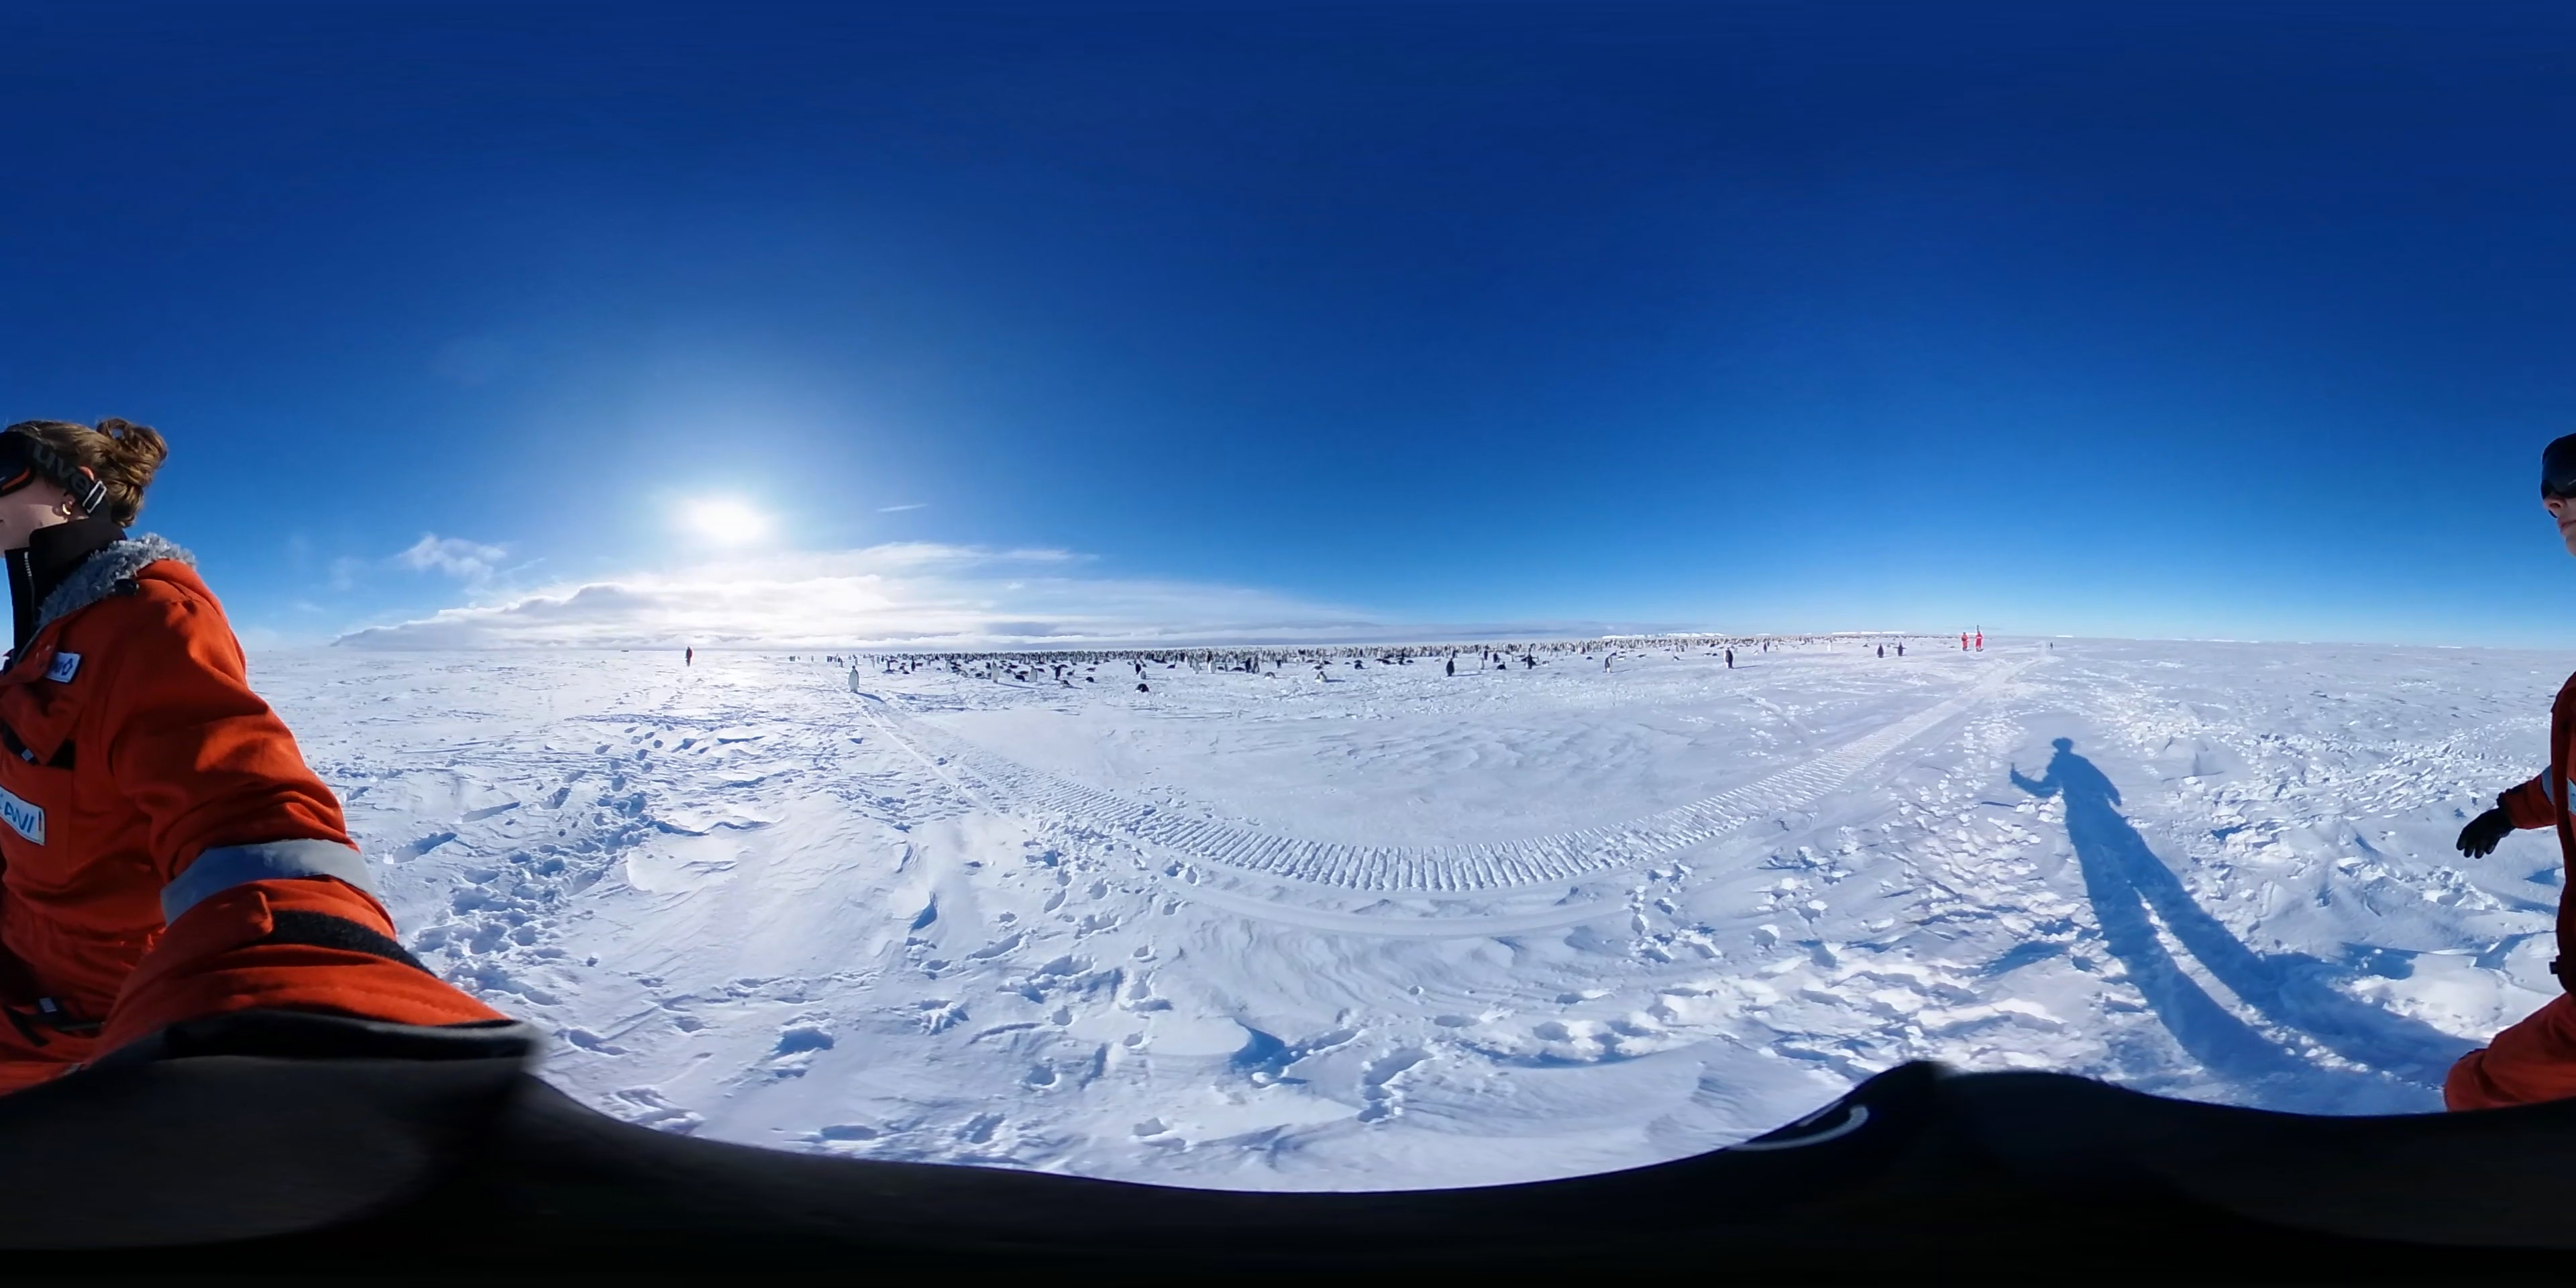adult_standing_penguin: (844, 665, 862, 693), (1442, 654, 1459, 677), (989, 659, 1000, 688), (1050, 662, 1065, 683), (1027, 660, 1040, 683), (1722, 647, 1735, 670), (1603, 654, 1617, 674), (1893, 641, 1909, 655), (1874, 641, 1884, 660)
adult_toboggan_penguin: (1134, 682, 1153, 695), (1313, 670, 1329, 683), (1262, 670, 1278, 682), (1084, 674, 1094, 687)
researcher: (0, 412, 417, 1007), (1973, 624, 1986, 654), (683, 642, 695, 669), (1960, 626, 1970, 654)
